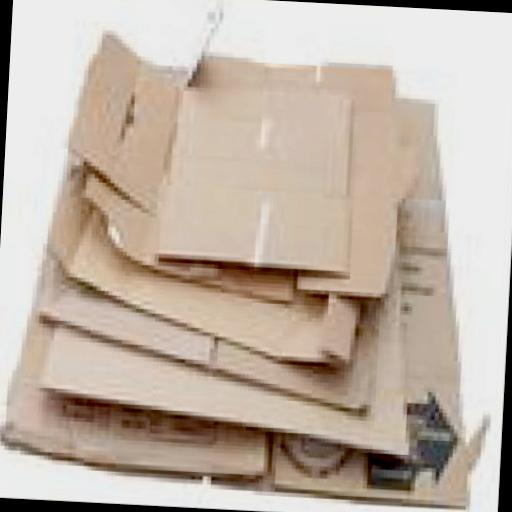cardboard: (4, 132, 505, 508), (46, 74, 444, 366), (38, 210, 434, 456), (32, 181, 395, 416), (86, 48, 414, 296), (72, 27, 372, 269)
